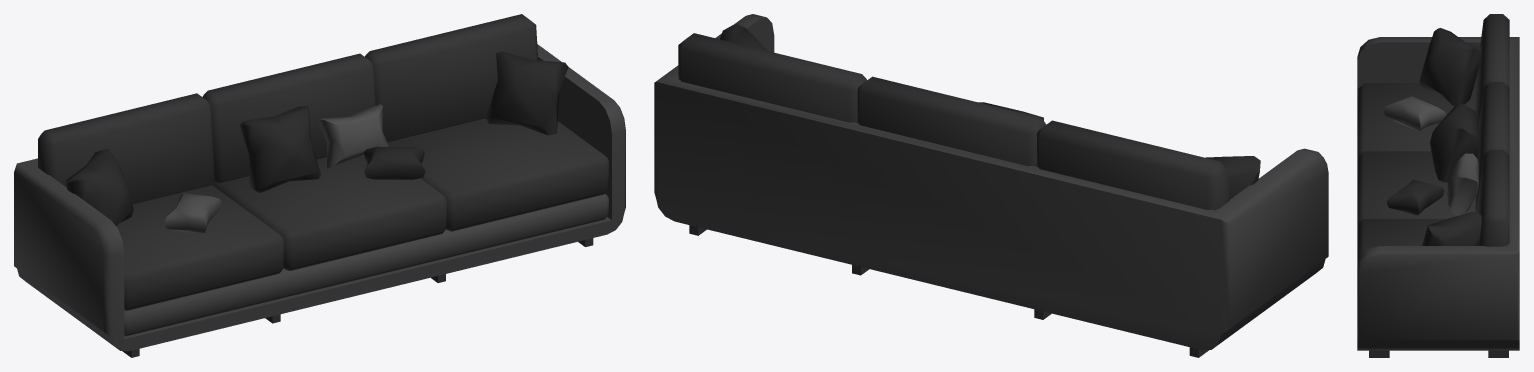
File: sofa007.glb
The picture shows the model from 3 angles, left to right: view 1: azimuth 30°, elevation 25°; view 2: azimuth 150°, elevation 25°; view 3: azimuth 270°, elevation 25°; orthographic projection. The views are drawn at different scales.
Parts seen in each view (by area): view 1: sofa.007; view 2: sofa.007; view 3: sofa.007.
Part boxes in pixels (<box>): sofa.007: <box>14,14,625,357</box>; sofa.007: <box>654,14,1328,357</box>; sofa.007: <box>1357,14,1519,357</box>.
Size of the model in its own units: 2.99 by 0.9452 by 0.9441.
1 material, 1 textured.
